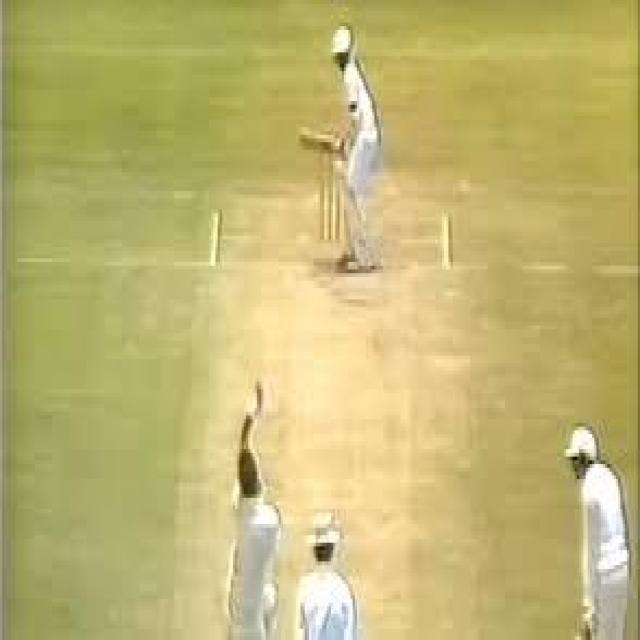bat: (300, 125, 339, 159)
